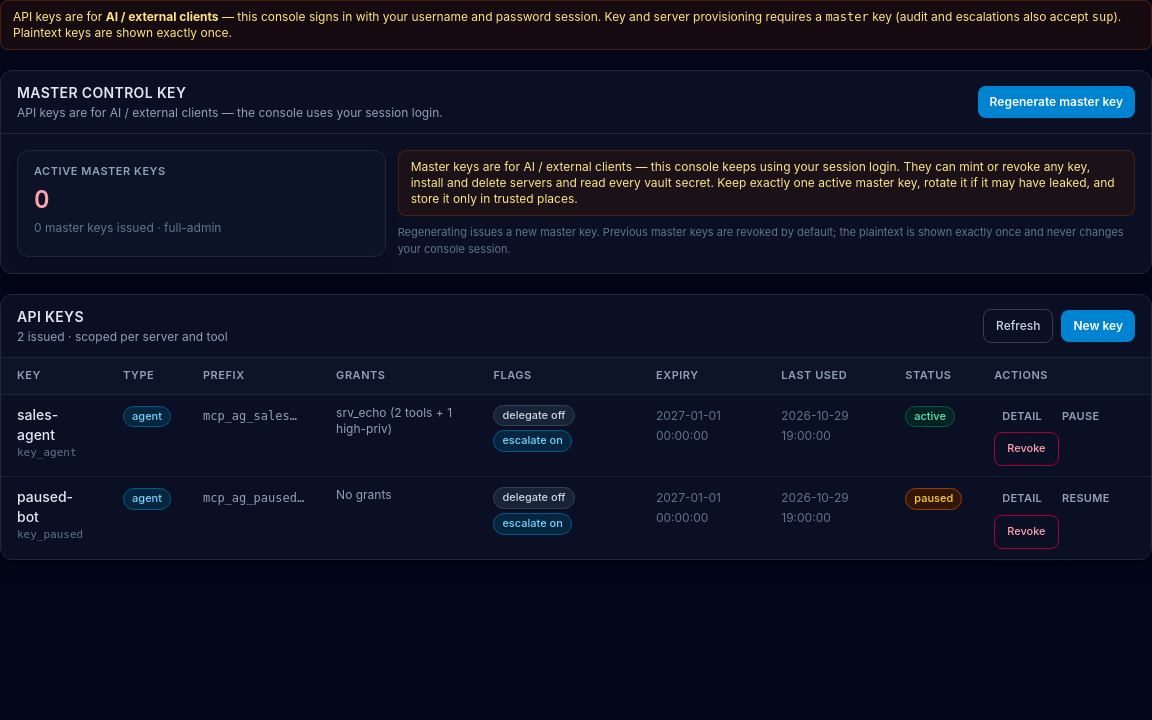
Test: Key detail drawer › renames a key inline with PATCH name and updates the header
Click the button "sales-agent" at (54, 425), box [17,405,91,445]
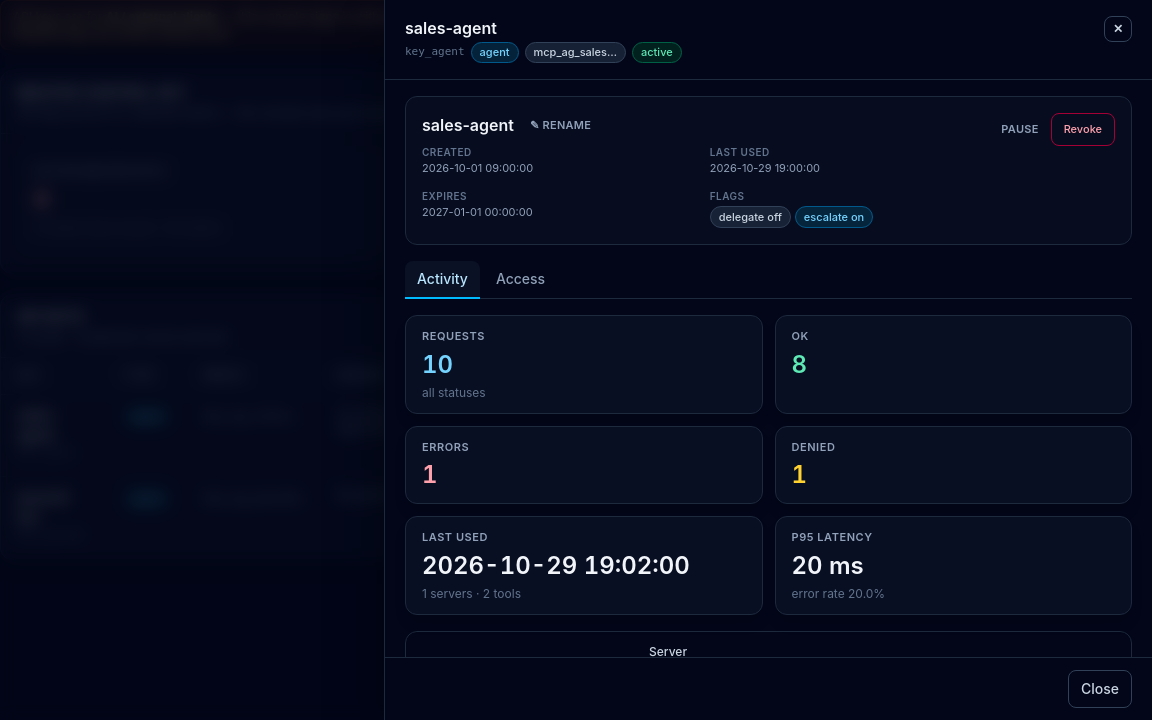
expect the tab "Access" is shown: met, box [484,261,557,299]
Click the button with aria-label "Rename key" at (561, 125), box [522,113,599,137]
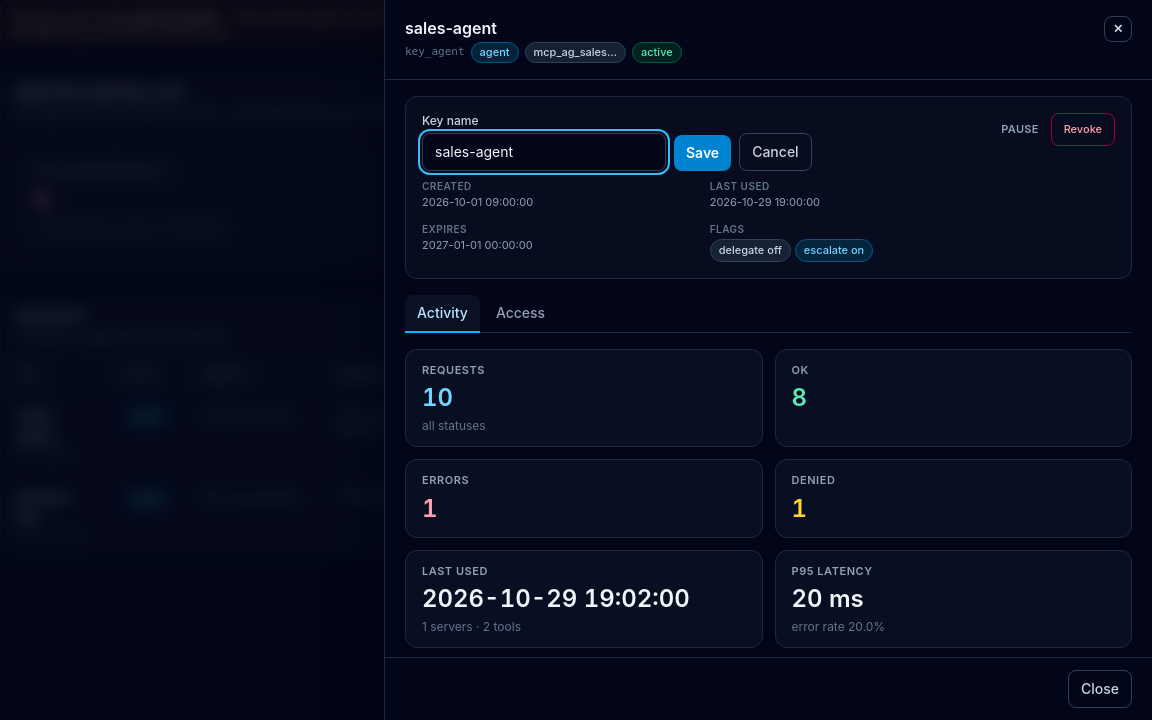
Replace the text in the field labelled "Key name" with "renamed-agent" at (544, 152), box [422,133,666,171]
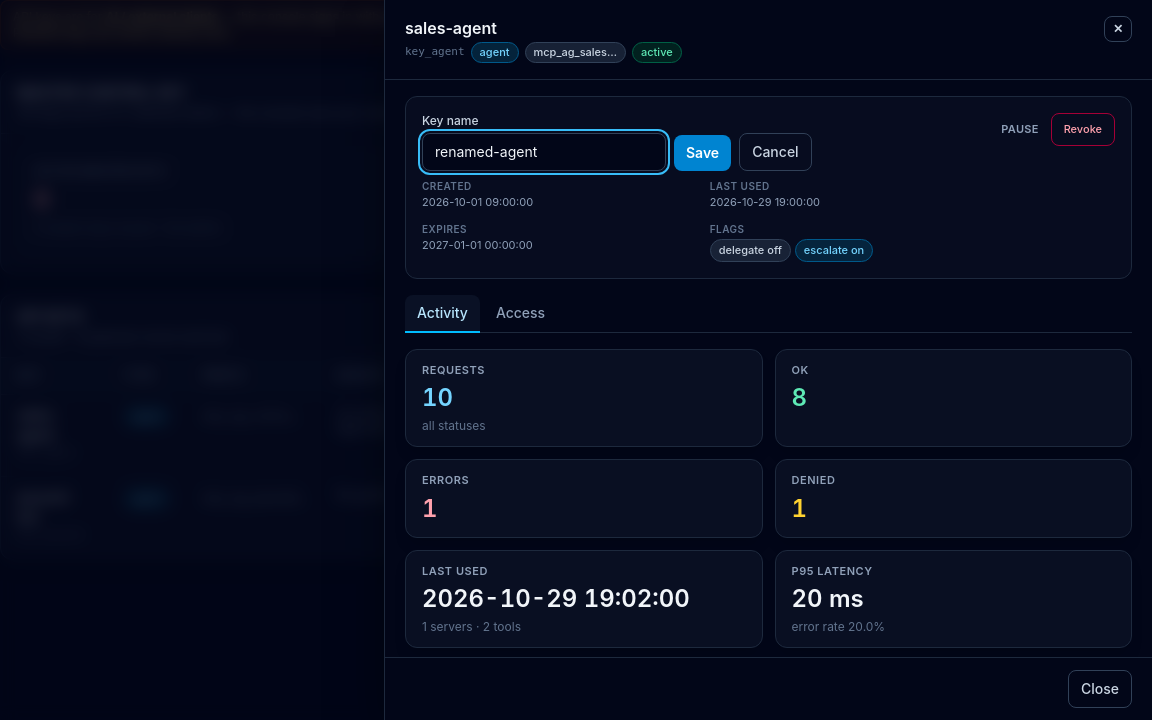
Click the button "Save" at (703, 153), box [674,135,731,171]
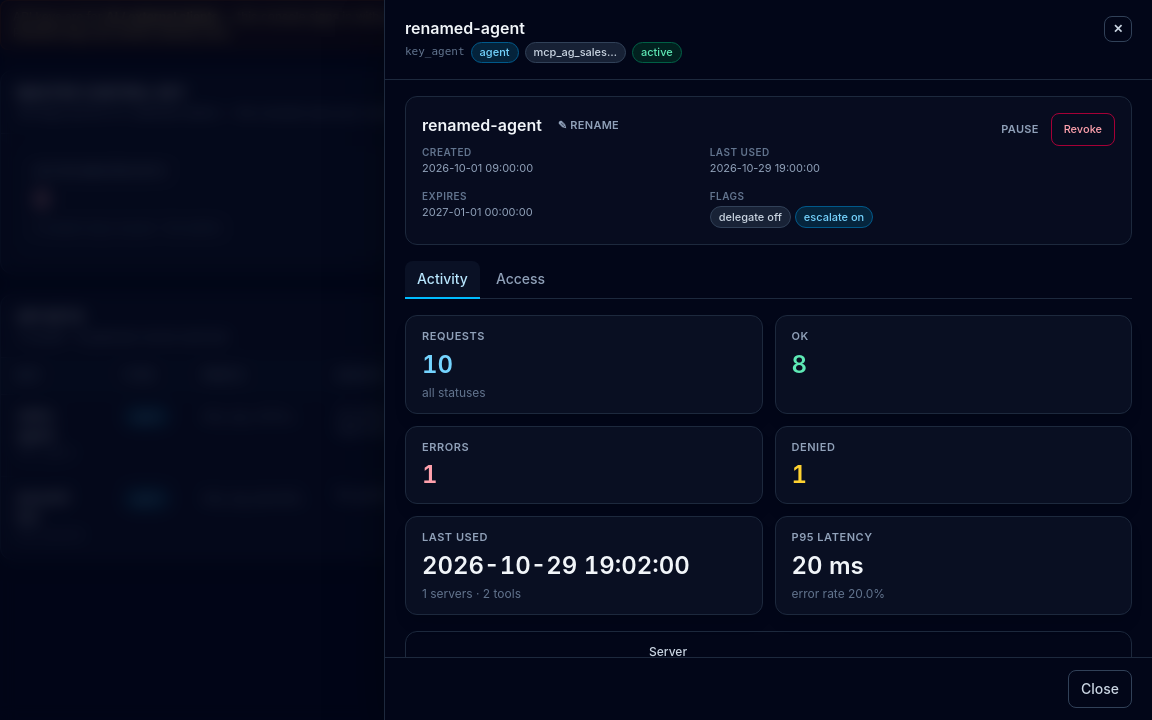
expect the heading "renamed-agent" is shown: met, box [405,18,525,38]
